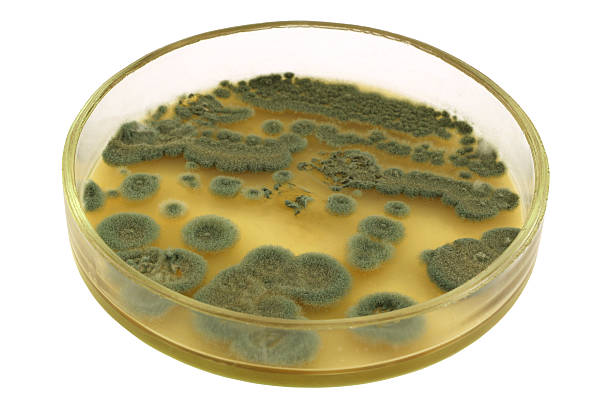Penicillium: (251, 68, 442, 136), (108, 213, 237, 261), (428, 232, 504, 264), (207, 172, 241, 194)
